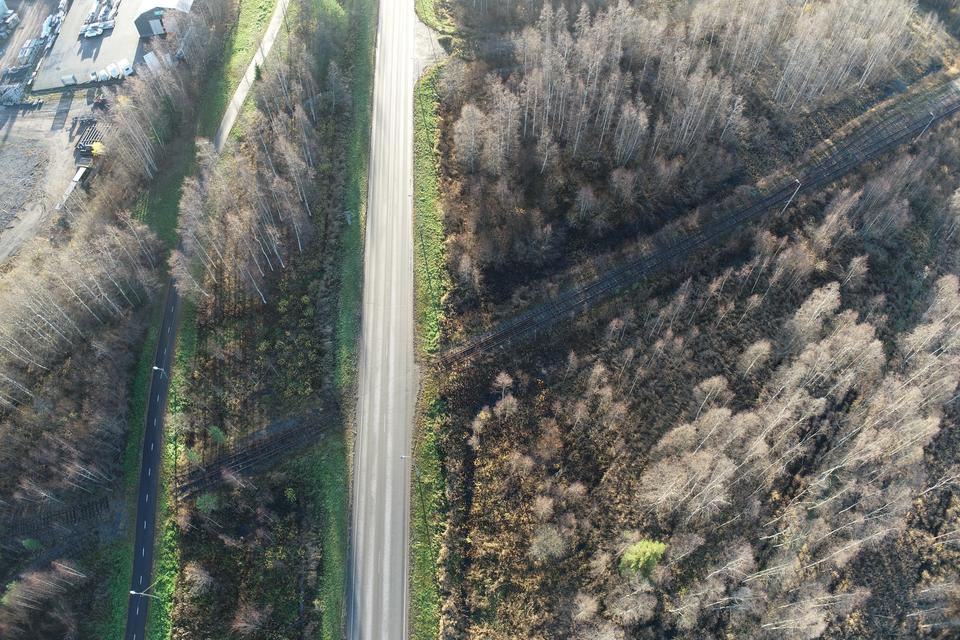intersection: (353, 0, 493, 86)
